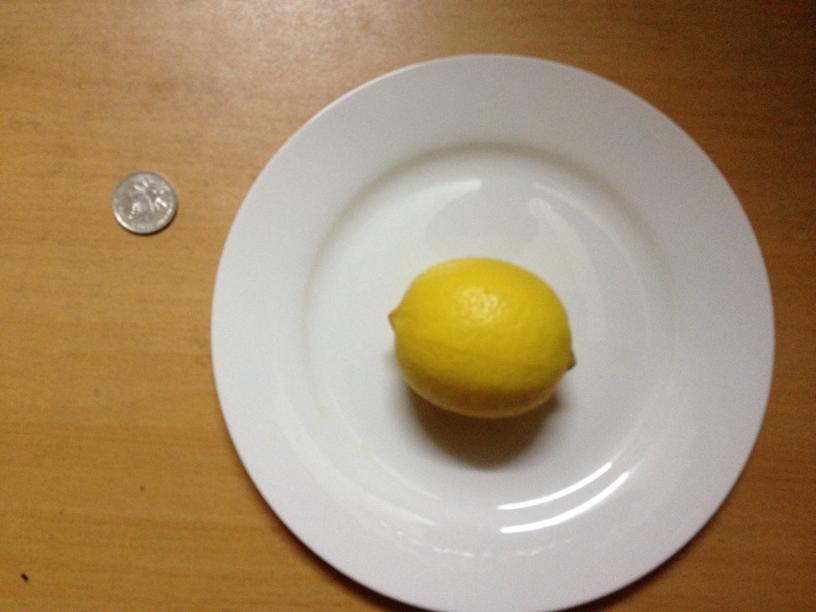coin: (107, 169, 176, 238)
lemon: (395, 256, 570, 419)
